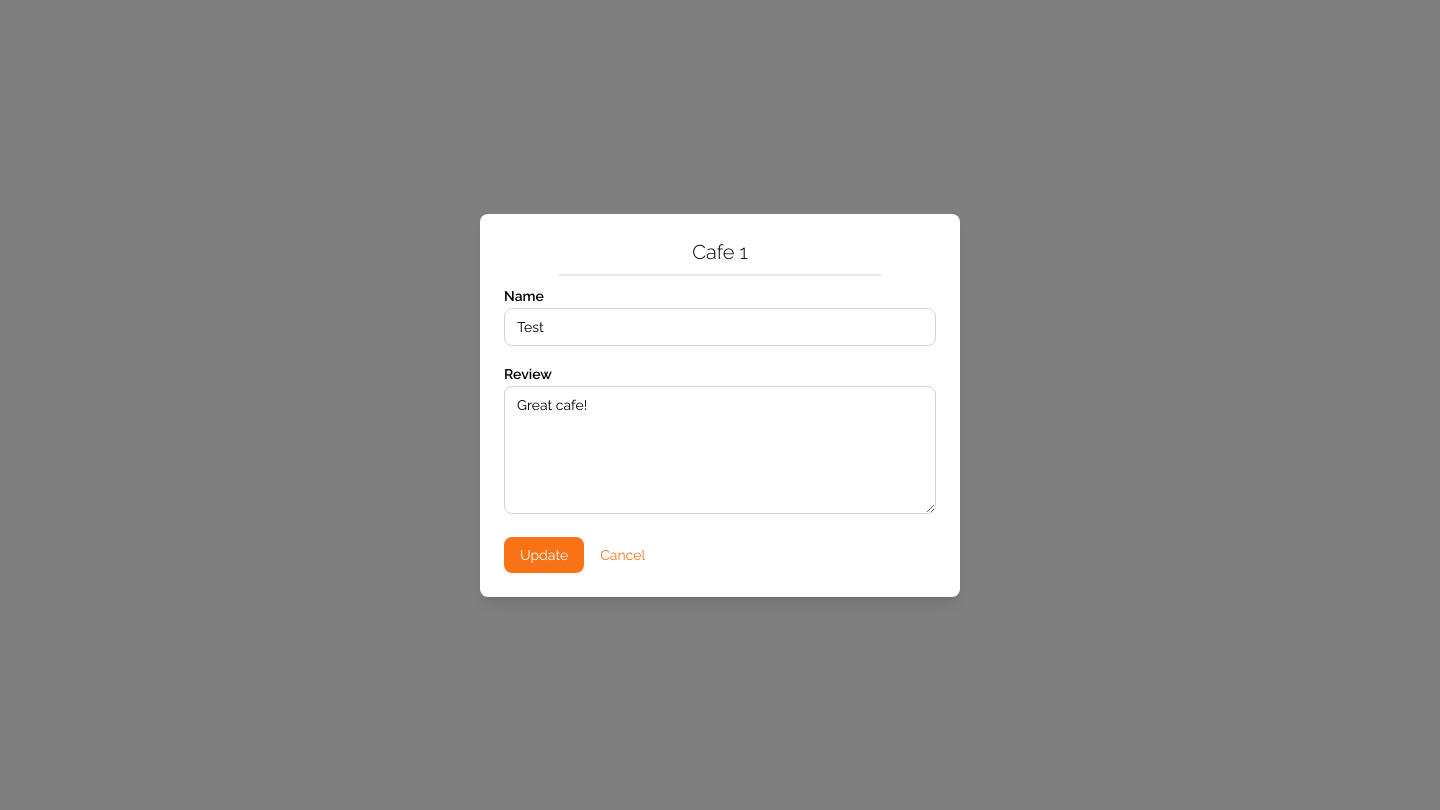
Scenario: AccountEditReviewForm Component › Form tests › should display an error message if the editReview service fails
In the field labelled "Name": point(720, 326) [504,308,936,346], type " 2"
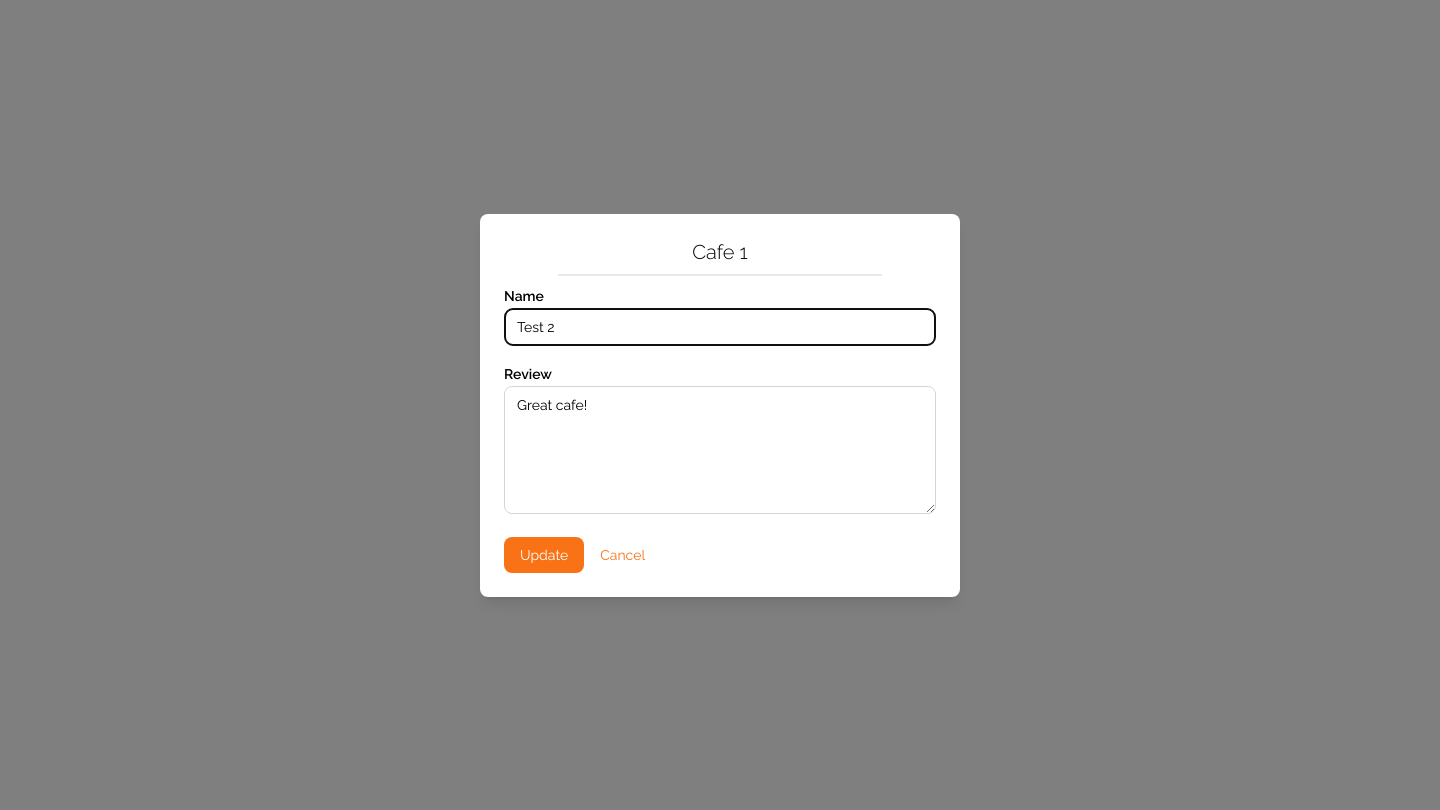
In the text box labelled "Review": point(720, 450) [504,386,936,514], type " I loved it here."
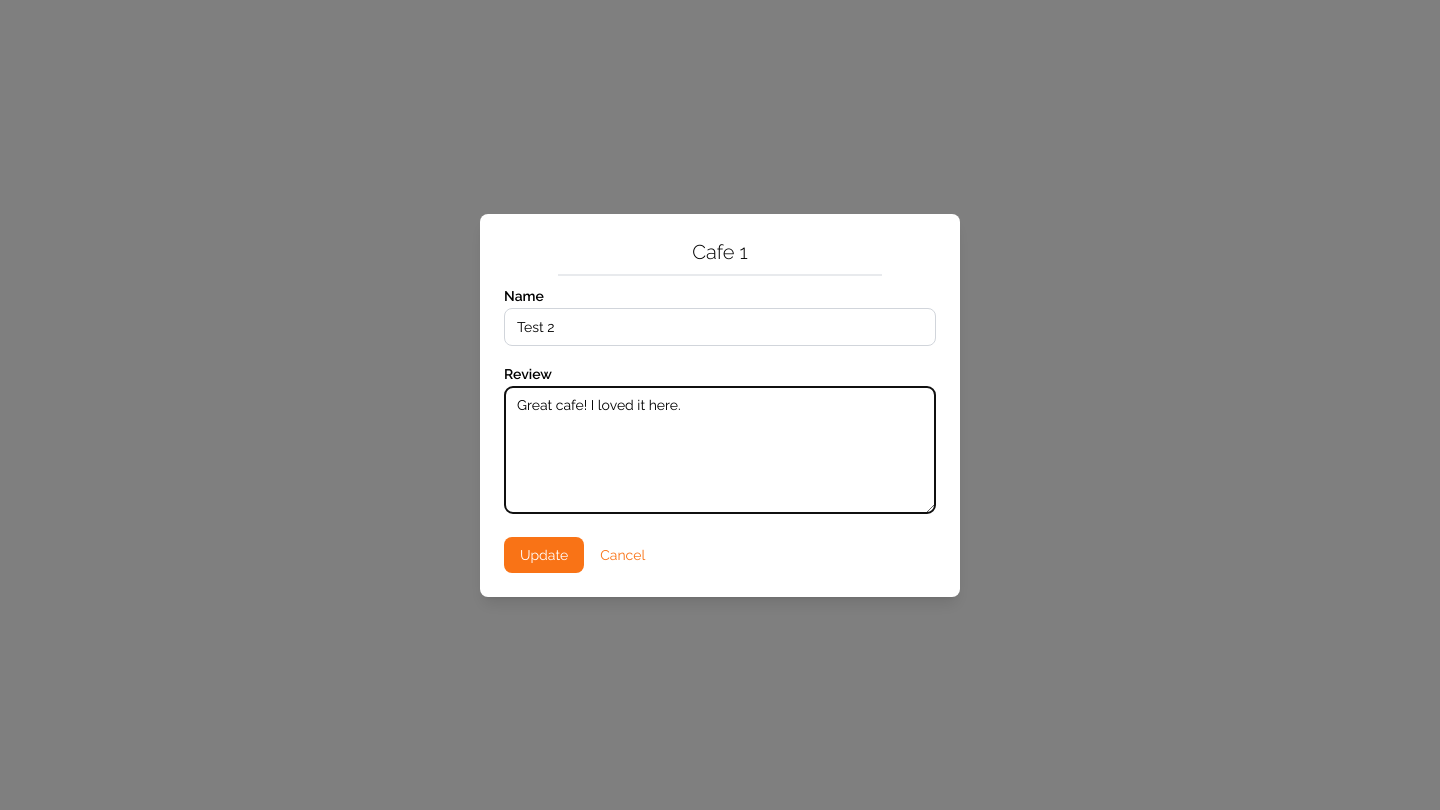
Click the button with aria-label "submit": point(544, 554) [504,536,584,572]
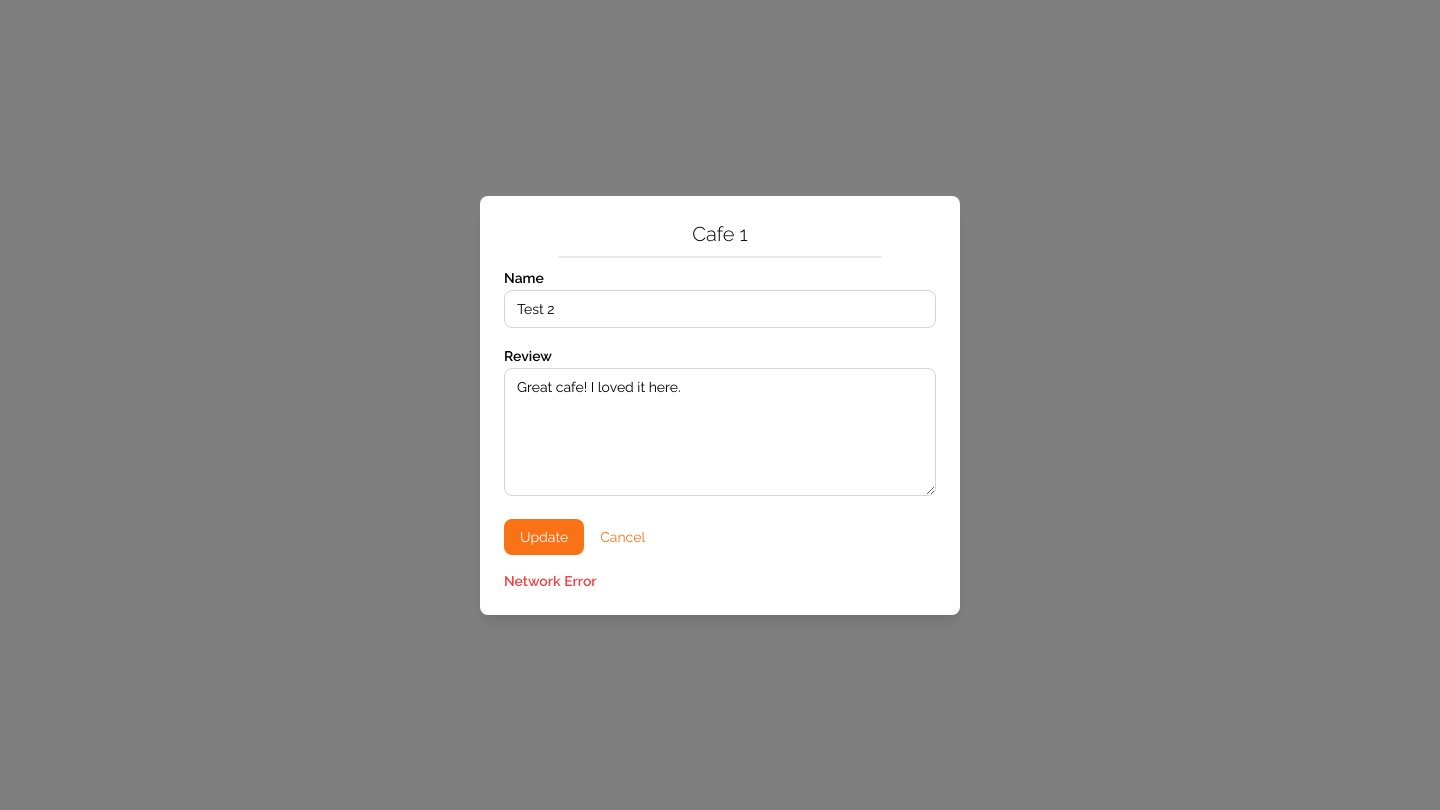
expect the text "Network Error" is shown: met, box [504,572,597,588]
